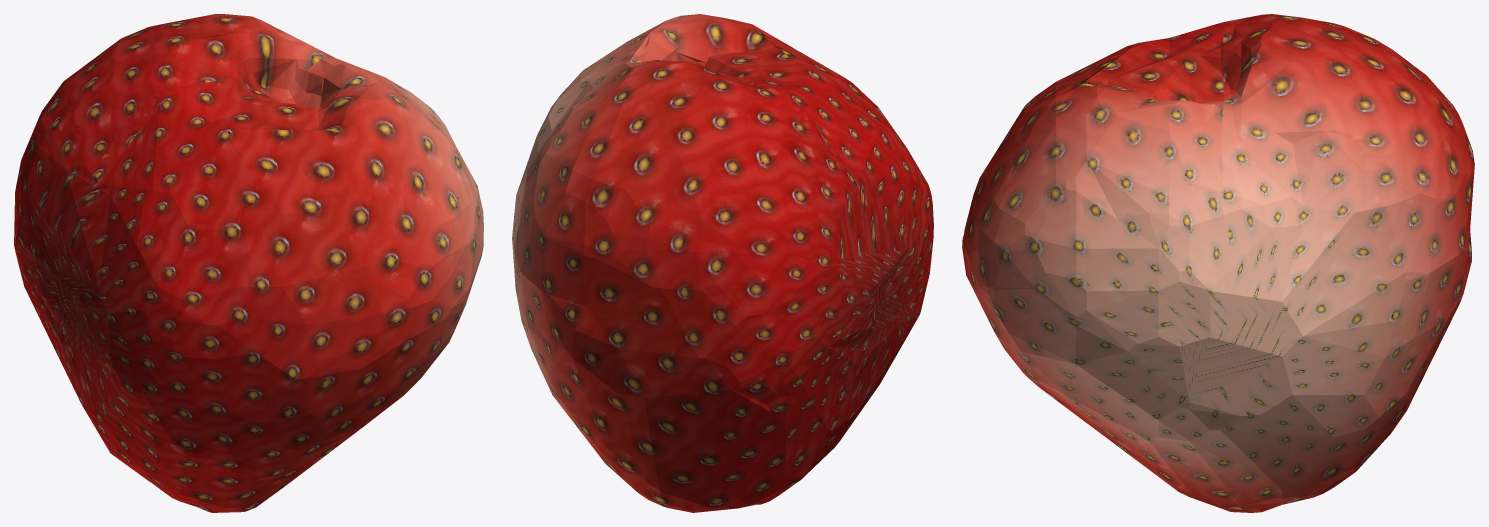
The picture shows the model from 3 angles, left to right: view 1: azimuth 30°, elevation 25°; view 2: azimuth 150°, elevation 25°; view 3: azimuth 270°, elevation 25°; orthographic projection. The views are drawn at different scales.
Visible parts, largest first — view 1: _001_Meshed; view 2: _001_Meshed; view 3: _001_Meshed.
Boxes of the visible parts, box(x1,y1,x2,y2) form: _001_Meshed: box(14, 14, 483, 512); _001_Meshed: box(512, 14, 933, 512); _001_Meshed: box(962, 14, 1474, 512).
Bounding box in the file's own units: 0.0964 × 0.1104 × 0.1128.
1 material, 1 textured.
